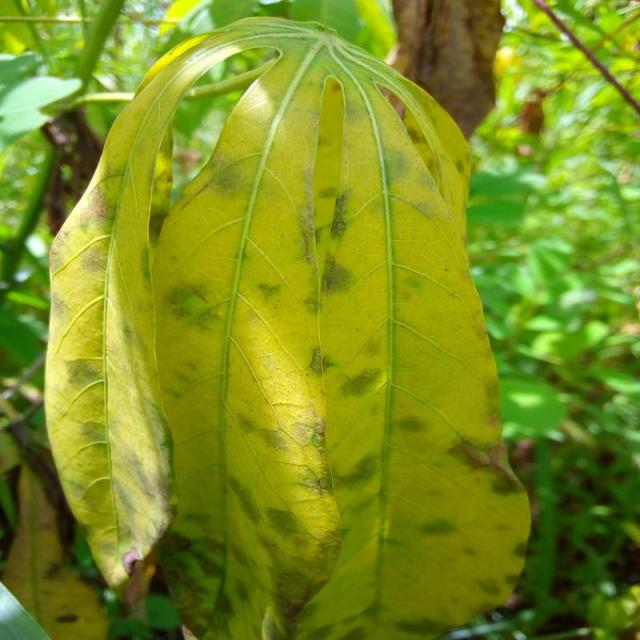cassava leaf: (42, 15, 533, 638)
